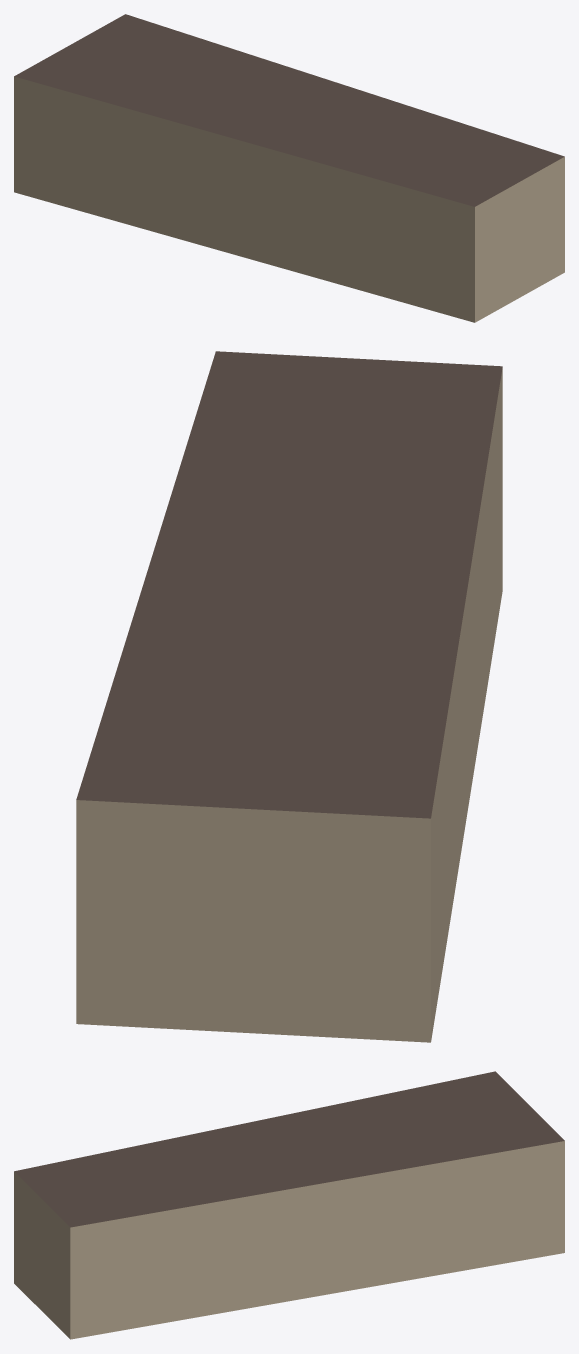
The picture shows the model from 3 angles, top to bottom: view 1: azimuth 30°, elevation 25°; view 2: azimuth 150°, elevation 25°; view 3: azimuth 270°, elevation 25°; orthographic projection. The views are drawn at different scales.
Visible parts, largest first — view 1: HP-w1512359769; view 2: HP-w1512359769; view 3: HP-w1512359769.
Boxes of the visible parts, left/top/right/bottom form: HP-w1512359769: left=14, top=14, right=564, bottom=322; HP-w1512359769: left=76, top=351, right=502, bottom=1042; HP-w1512359769: left=14, top=1071, right=564, bottom=1339.
Size of the model in its own units: 26.91 by 9 by 40.11.
